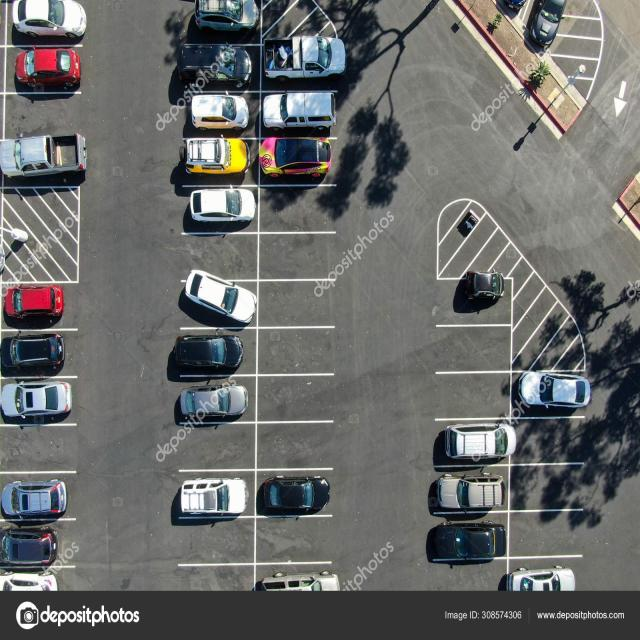libre: (256, 182, 336, 469), (175, 510, 337, 612), (509, 415, 589, 558), (431, 325, 509, 415), (167, 236, 261, 284), (0, 92, 91, 141), (163, 428, 251, 473), (421, 561, 507, 604), (1, 430, 83, 469)
ocupado: (179, 3, 347, 235), (167, 271, 252, 428), (429, 418, 513, 563), (0, 284, 79, 427), (1, 471, 75, 610), (171, 466, 335, 525), (476, 2, 580, 84), (439, 261, 515, 333), (3, 128, 88, 187), (503, 556, 589, 597), (251, 560, 345, 597)
